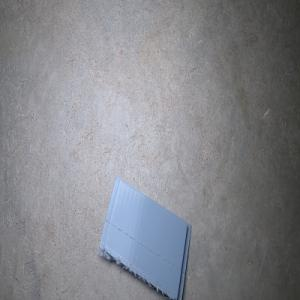PlasticPart: (96, 175, 191, 300)
